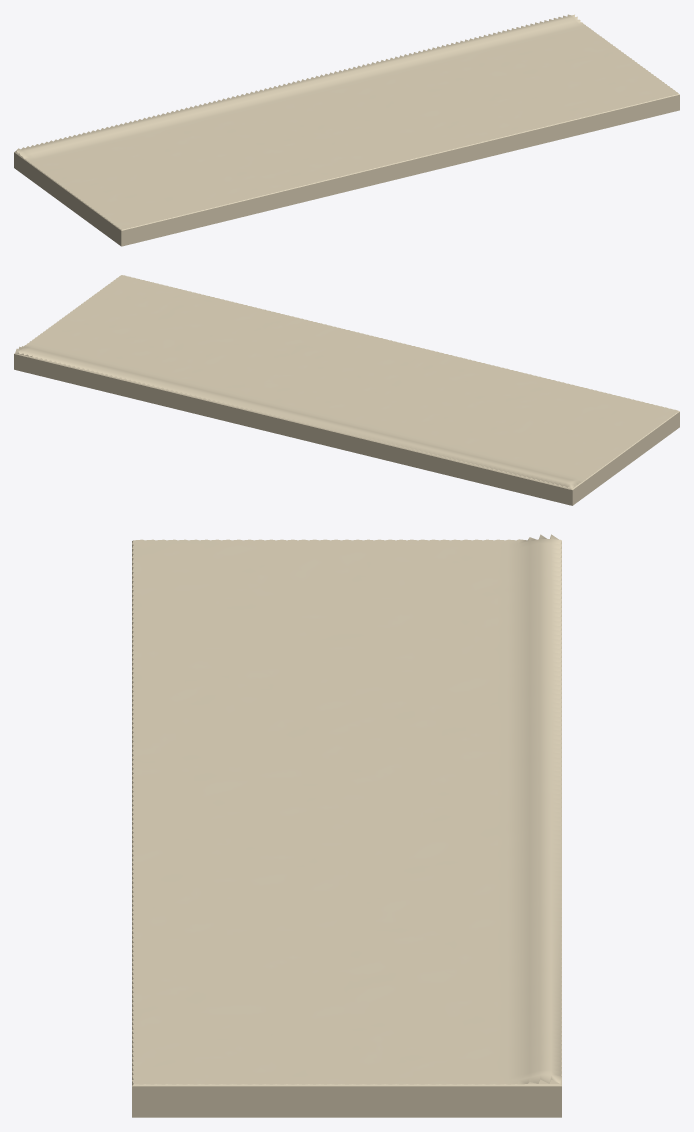
Rendered from mahsulot.glb.
3 renders of one model, top to bottom at view 1: azimuth 30°, elevation 25°; view 2: azimuth 150°, elevation 25°; view 3: azimuth 270°, elevation 25°, orthographic. The views are drawn at different scales.
Parts seen in each view (by area): view 1: mahsulot; view 2: mahsulot; view 3: mahsulot.
Boxes of the visible parts, x1=… form: mahsulot: x1=14, y1=14, x2=679, y2=246; mahsulot: x1=14, y1=275, x2=679, y2=505; mahsulot: x1=132, y1=534, x2=561, y2=1117.
Bounding box in the file's own units: 1.2 × 0.0393 × 0.4.
